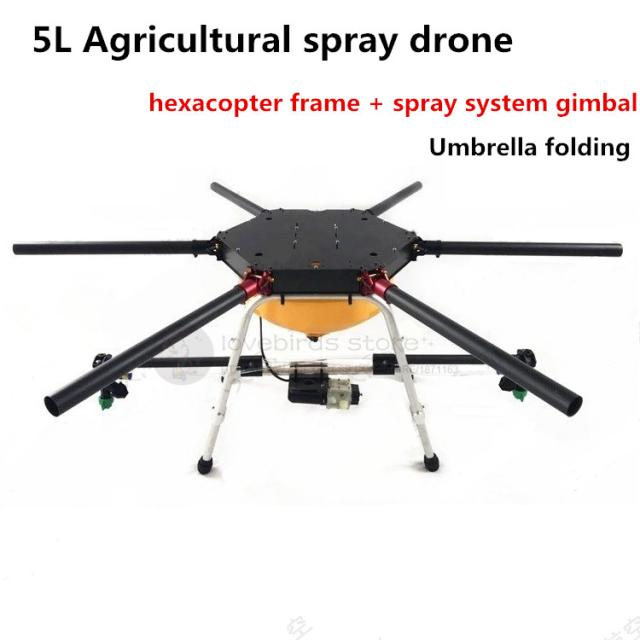drone: (0, 182, 640, 489)
